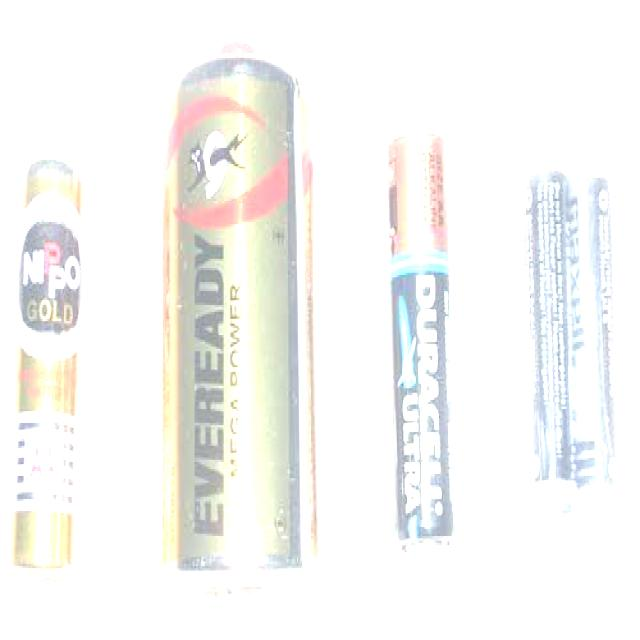AA: (1, 145, 89, 590), (380, 123, 461, 566), (518, 155, 577, 531), (569, 157, 627, 531)
